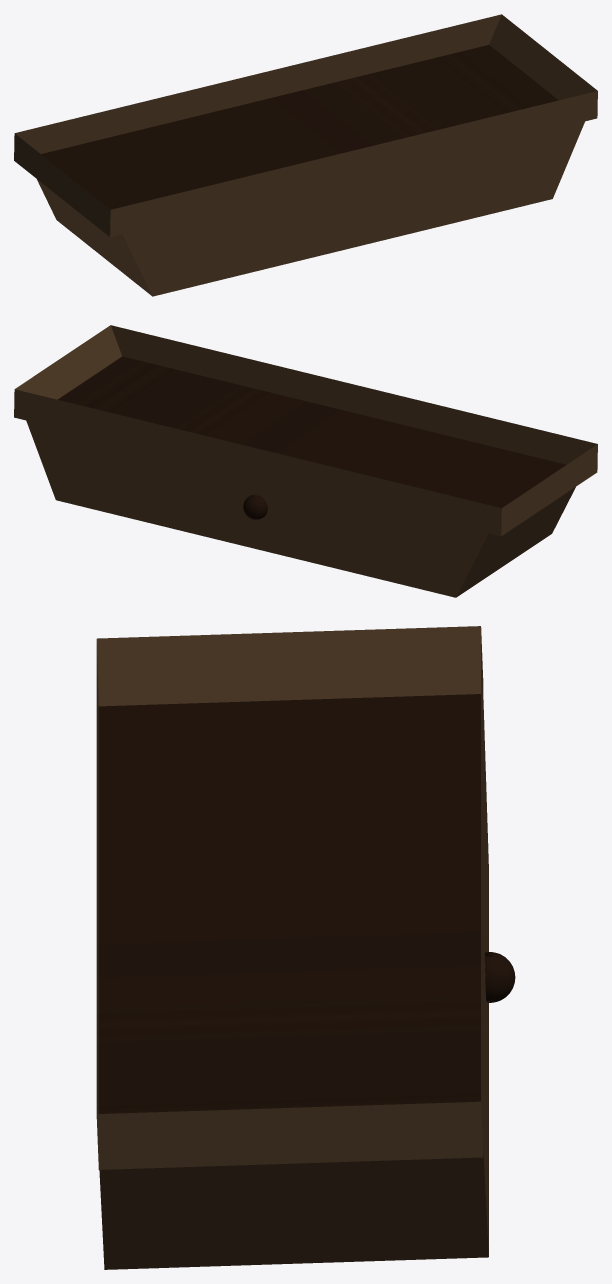
The model's file is cajon.obj.
3 views of the same model, one above another, from view 1: azimuth 30°, elevation 25°; view 2: azimuth 150°, elevation 25°; view 3: azimuth 270°, elevation 25° (orthographic). The views are drawn at different scales.
Visible parts, largest first — view 1: Cube.001; view 2: Cube.001; view 3: Cube.001.
Part boxes in pixels (x1=…): Cube.001: x1=14, y1=14, x2=597, y2=296; Cube.001: x1=14, y1=325, x2=597, y2=597; Cube.001: x1=96, y1=626, x2=515, y2=1269.
Size of the model in its own units: 0.1947 by 0.0402 by 0.0725.
Materials: 3 (3 with a texture image).
